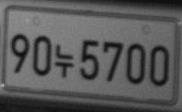0: (148, 44, 169, 87), (31, 34, 52, 75), (125, 42, 145, 84)
5: (79, 39, 99, 80)
7: (103, 40, 123, 82)
9: (10, 33, 29, 73)
누: (54, 43, 74, 78)
